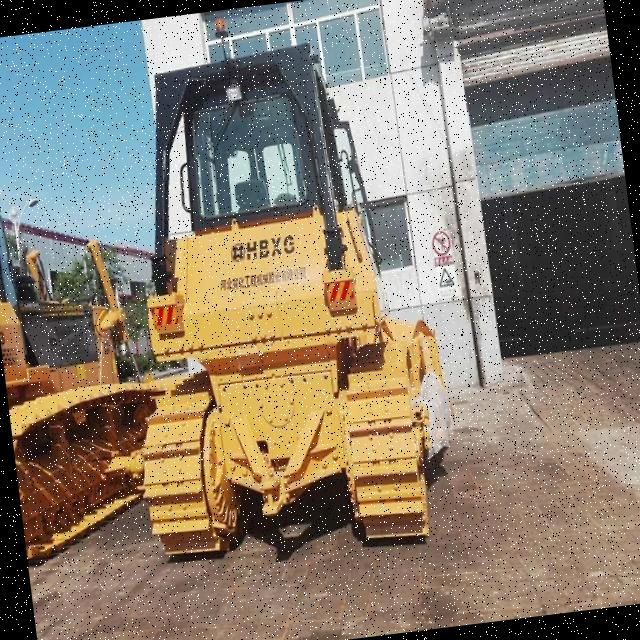Bulldozer: (72, 0, 490, 591)
